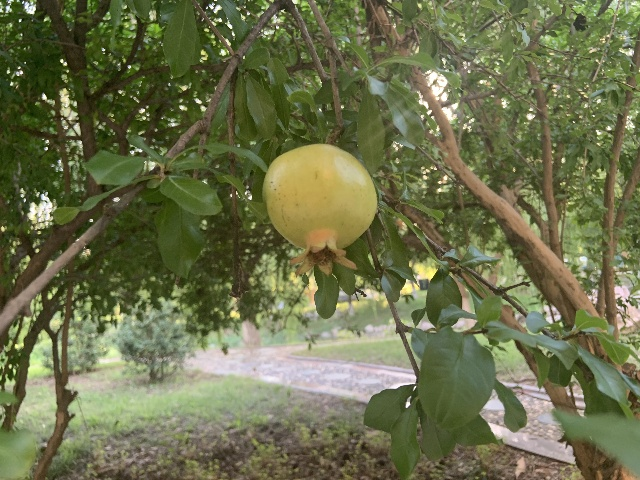mid-growth: (262, 143, 377, 277)
